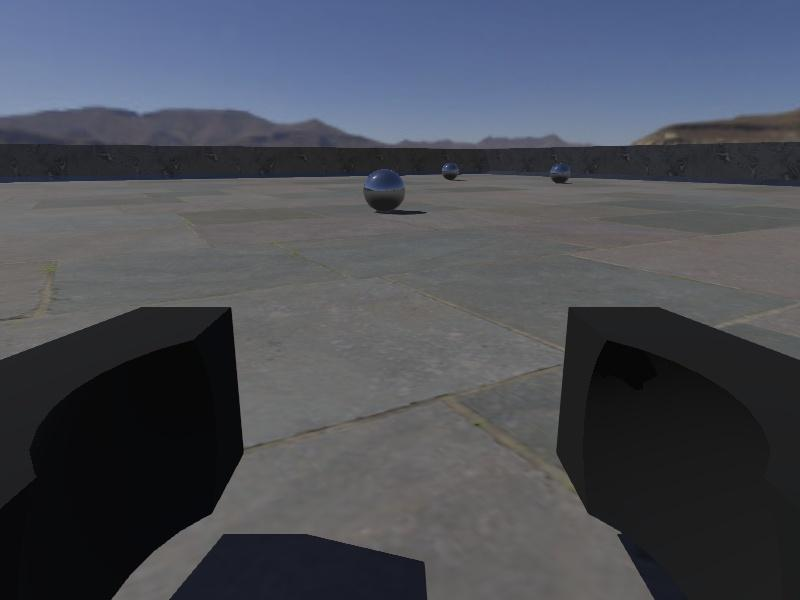steel ball: (362, 167, 406, 214), (548, 162, 572, 184), (441, 162, 458, 180)
